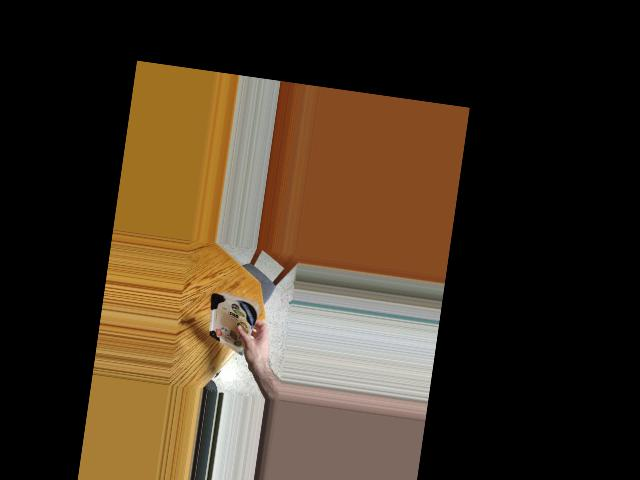cheese: (208, 288, 262, 346)
